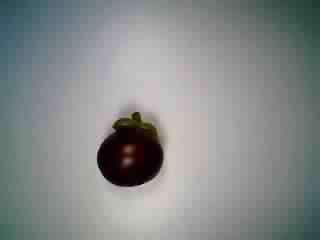mangosteen: (86, 105, 169, 191)
